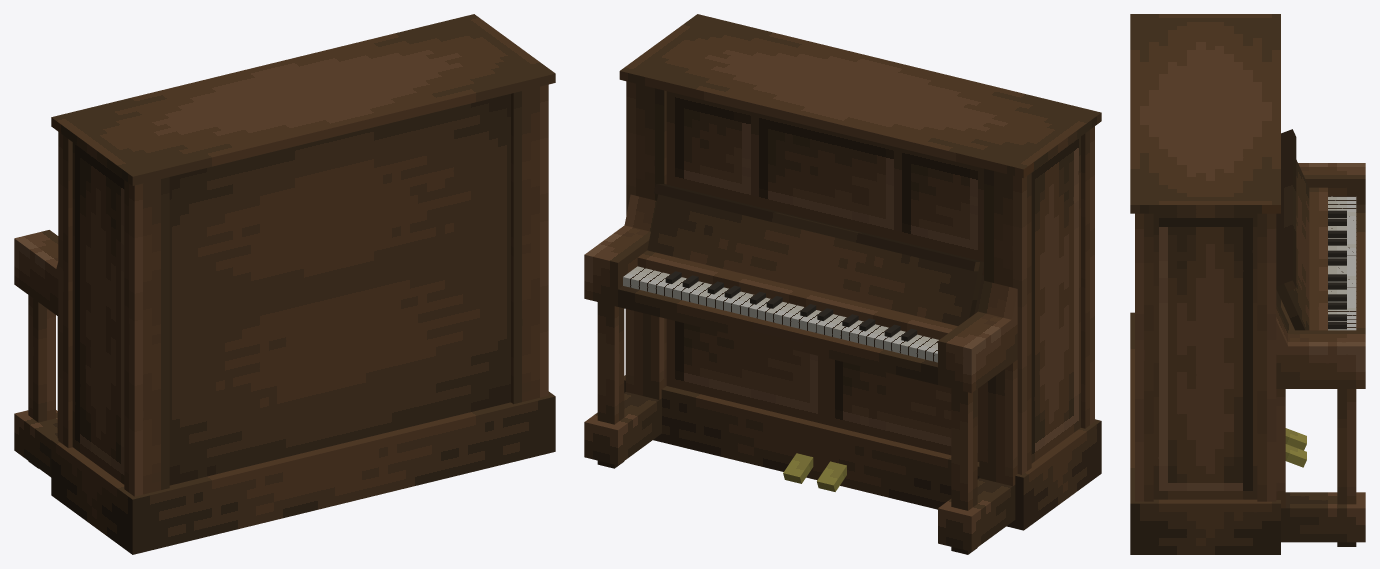
Rendered from craft_table.gltf.
3 renders of one model, left to right at view 1: azimuth 30°, elevation 25°; view 2: azimuth 150°, elevation 25°; view 3: azimuth 270°, elevation 25°, orthographic. The views are drawn at different scales.
Parts seen in each view (by area): view 1: 43515a2a-cb71-1481-4b37-b398ff55e424, 83710992-95c9-78f7-efd7-740d6a23cfc7, 73749f3d-51db-392e-0ff4-60467945829e, a2d2695b-b575-a069-1f29-8dbbe6877503, 92614dc3-8bfa-664f-839a-590759222c96, 843adeeb-984c-f011-929d-cc90d0879a01, 54d33269-f6f9-a784-e164-bc1a94d986e4, 17225c12-0480-93a6-acac-9e718c6b549c, f8b6d380-1117-d91d-2005-fbb5312c44e8; view 2: 43515a2a-cb71-1481-4b37-b398ff55e424, 83710992-95c9-78f7-efd7-740d6a23cfc7, 73749f3d-51db-392e-0ff4-60467945829e, 69489420-e7cb-7186-522d-83eab01af24b, 843adeeb-984c-f011-929d-cc90d0879a01, 2dd92012-81ea-5d9b-1819-bc323f83aa38, dd975b94-4e9b-d41f-237b-8c6ca06382e1, 17225c12-0480-93a6-acac-9e718c6b549c, 0b118233-a999-d5db-ecf3-51041c5c3efa, 5008ef48-eab9-c66f-b8ae-2e1bbbb33a64, a2d2695b-b575-a069-1f29-8dbbe6877503, 59cfb841-abb4-1a7b-c9a8-56c540cb9b10 (+15 smaller); view 3: 83710992-95c9-78f7-efd7-740d6a23cfc7, 43515a2a-cb71-1481-4b37-b398ff55e424, 73749f3d-51db-392e-0ff4-60467945829e, 0b118233-a999-d5db-ecf3-51041c5c3efa, 92614dc3-8bfa-664f-839a-590759222c96, 2f4ccd80-1d7a-1110-8aaa-12ea7c317798, 1a7e2039-d946-dcfb-3b93-6729ba803a31, 69489420-e7cb-7186-522d-83eab01af24b, dd975b94-4e9b-d41f-237b-8c6ca06382e1, 507fb078-e3be-f35d-9f4e-21fcd19e5d5b, 59cfb841-abb4-1a7b-c9a8-56c540cb9b10, 17225c12-0480-93a6-acac-9e718c6b549c (+9 smaller).
Part boxes in pixels (bbox=[...]): 43515a2a-cb71-1481-4b37-b398ff55e424: bbox=[72, 94, 510, 485]; 83710992-95c9-78f7-efd7-740d6a23cfc7: bbox=[51, 14, 555, 185]; 73749f3d-51db-392e-0ff4-60467945829e: bbox=[51, 391, 555, 554]; a2d2695b-b575-a069-1f29-8dbbe6877503: bbox=[124, 177, 169, 496]; 92614dc3-8bfa-664f-839a-590759222c96: bbox=[511, 84, 548, 404]; 843adeeb-984c-f011-929d-cc90d0879a01: bbox=[58, 132, 72, 448]; 54d33269-f6f9-a784-e164-bc1a94d986e4: bbox=[28, 295, 55, 422]; 17225c12-0480-93a6-acac-9e718c6b549c: bbox=[14, 230, 58, 316]; f8b6d380-1117-d91d-2005-fbb5312c44e8: bbox=[14, 410, 57, 477]; 43515a2a-cb71-1481-4b37-b398ff55e424: bbox=[666, 91, 1080, 463]; 83710992-95c9-78f7-efd7-740d6a23cfc7: bbox=[619, 14, 1101, 178]; 73749f3d-51db-392e-0ff4-60467945829e: bbox=[624, 375, 1101, 530]; 69489420-e7cb-7186-522d-83eab01af24b: bbox=[647, 184, 983, 325]; 843adeeb-984c-f011-929d-cc90d0879a01: bbox=[984, 168, 1031, 474]; 2dd92012-81ea-5d9b-1819-bc323f83aa38: bbox=[618, 286, 937, 384]; dd975b94-4e9b-d41f-237b-8c6ca06382e1: bbox=[637, 250, 957, 339]; 17225c12-0480-93a6-acac-9e718c6b549c: bbox=[938, 311, 1017, 392]; 0b118233-a999-d5db-ecf3-51041c5c3efa: bbox=[626, 81, 666, 387]; 5008ef48-eab9-c66f-b8ae-2e1bbbb33a64: bbox=[979, 360, 1017, 486]; a2d2695b-b575-a069-1f29-8dbbe6877503: bbox=[1081, 126, 1094, 428]; 59cfb841-abb4-1a7b-c9a8-56c540cb9b10: bbox=[654, 184, 979, 271]; 83710992-95c9-78f7-efd7-740d6a23cfc7: bbox=[1130, 14, 1280, 213]; 43515a2a-cb71-1481-4b37-b398ff55e424: bbox=[1153, 213, 1257, 499]; 73749f3d-51db-392e-0ff4-60467945829e: bbox=[1130, 312, 1280, 554]; 0b118233-a999-d5db-ecf3-51041c5c3efa: bbox=[1257, 213, 1276, 501]; 92614dc3-8bfa-664f-839a-590759222c96: bbox=[1135, 213, 1153, 501]; 2f4ccd80-1d7a-1110-8aaa-12ea7c317798: bbox=[1276, 330, 1365, 388]; 1a7e2039-d946-dcfb-3b93-6729ba803a31: bbox=[1281, 492, 1365, 542]; 69489420-e7cb-7186-522d-83eab01af24b: bbox=[1276, 132, 1309, 330]; dd975b94-4e9b-d41f-237b-8c6ca06382e1: bbox=[1281, 187, 1327, 330]; 507fb078-e3be-f35d-9f4e-21fcd19e5d5b: bbox=[1337, 389, 1356, 504]; 59cfb841-abb4-1a7b-c9a8-56c540cb9b10: bbox=[1284, 129, 1296, 291]; 17225c12-0480-93a6-acac-9e718c6b549c: bbox=[1298, 163, 1365, 204].
Bounding box in the file's own units: 48 × 41 × 25.
Materials: 2 (2 with a texture image).
